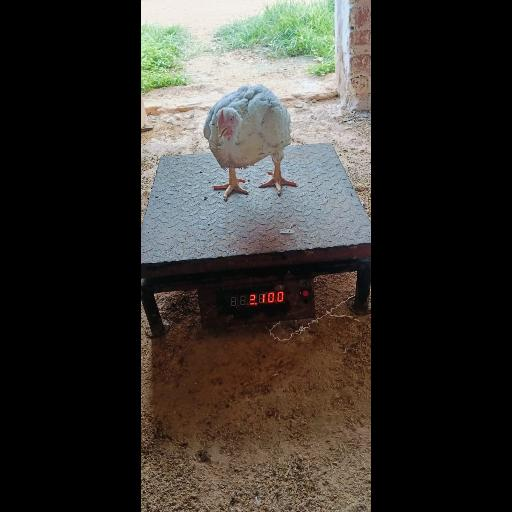chick: (204, 85, 300, 199)
